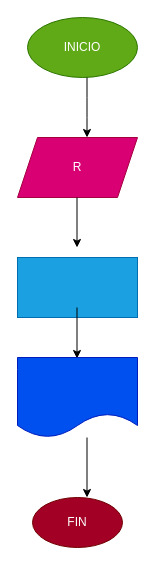
Image size: 155x565. Some labels were removed from this diagram. Here are the shapes that lost their labels. From the top down, the box of each, then its label:
(16, 256, 138, 318): A=PI*R 2 P=2*PI*R
(16, 356, 138, 438): A.P
